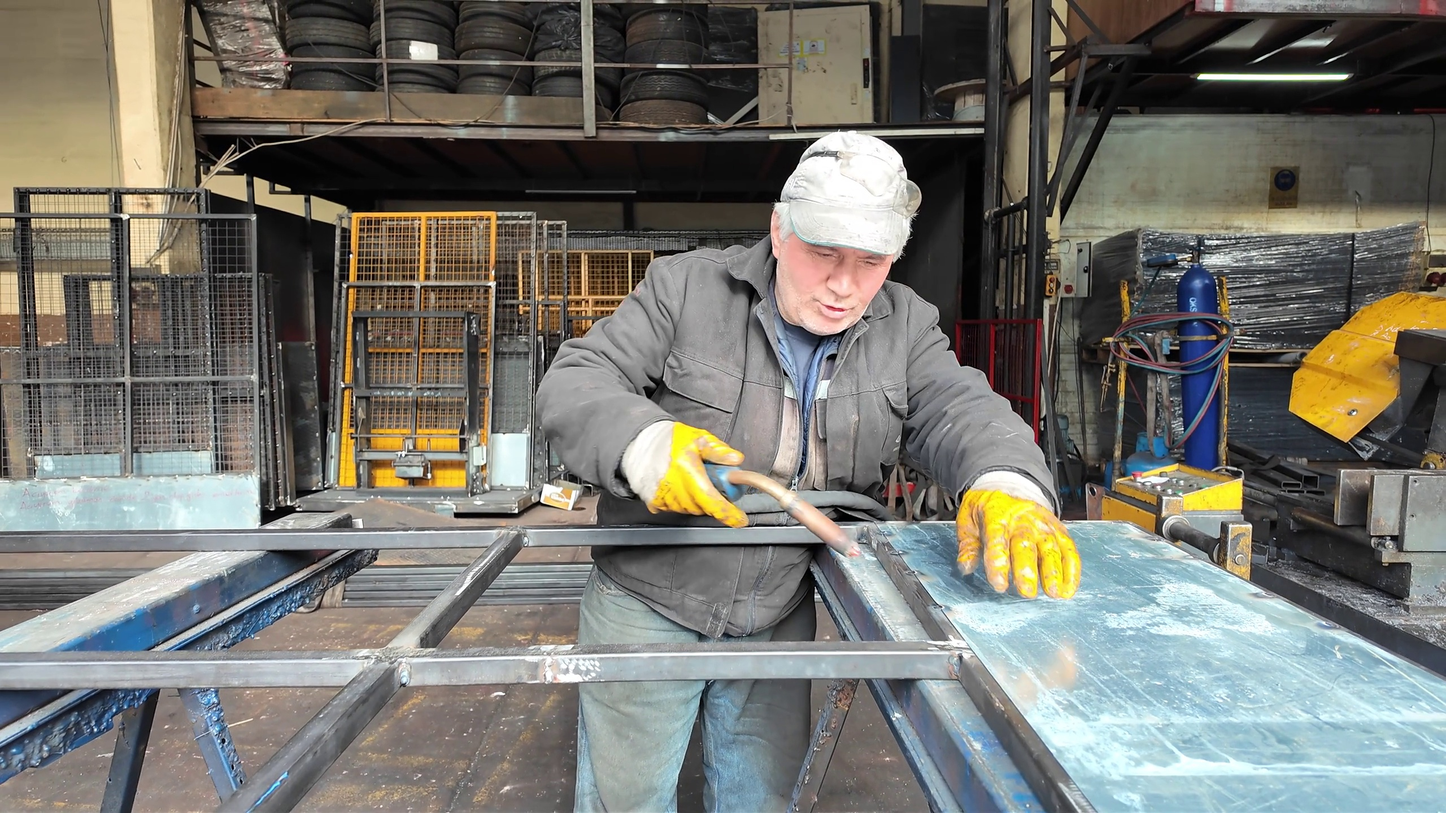person: (535, 132, 1082, 813)
